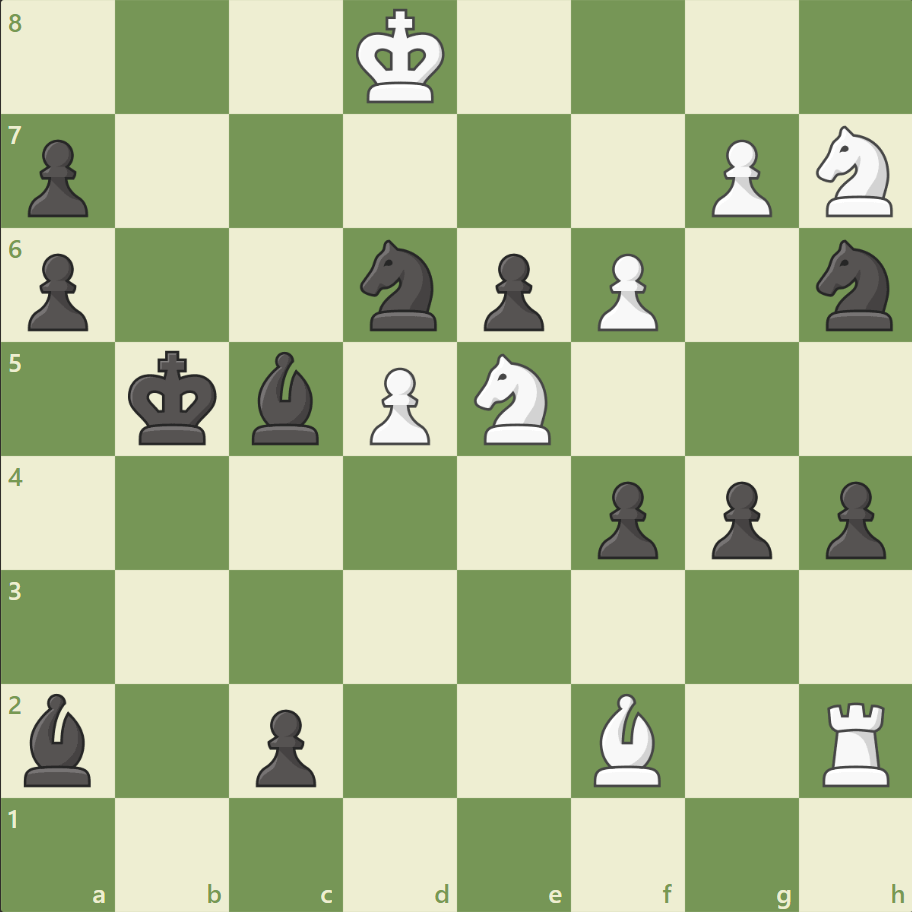B: (585, 687, 669, 790)
K: (351, 4, 451, 112)
N: (806, 121, 903, 223), (465, 348, 562, 450)
P: (701, 132, 776, 223), (588, 246, 662, 337), (361, 359, 435, 450)
R: (814, 693, 897, 790)
b: (17, 687, 101, 790), (244, 347, 328, 449)
k: (124, 344, 224, 452)
n: (351, 234, 449, 337), (806, 234, 903, 337)
p: (20, 132, 95, 223), (20, 246, 95, 337), (474, 246, 549, 337), (701, 473, 776, 564), (247, 700, 322, 791), (588, 473, 662, 564), (815, 473, 889, 564)
